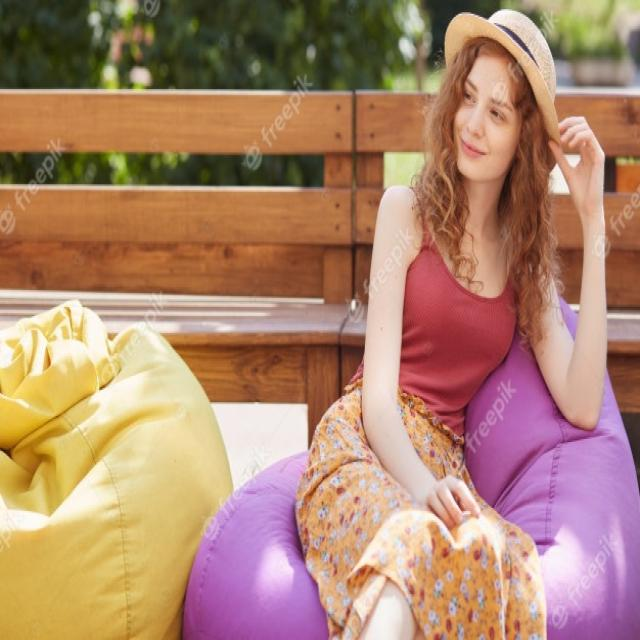hat: (442, 6, 566, 189)
